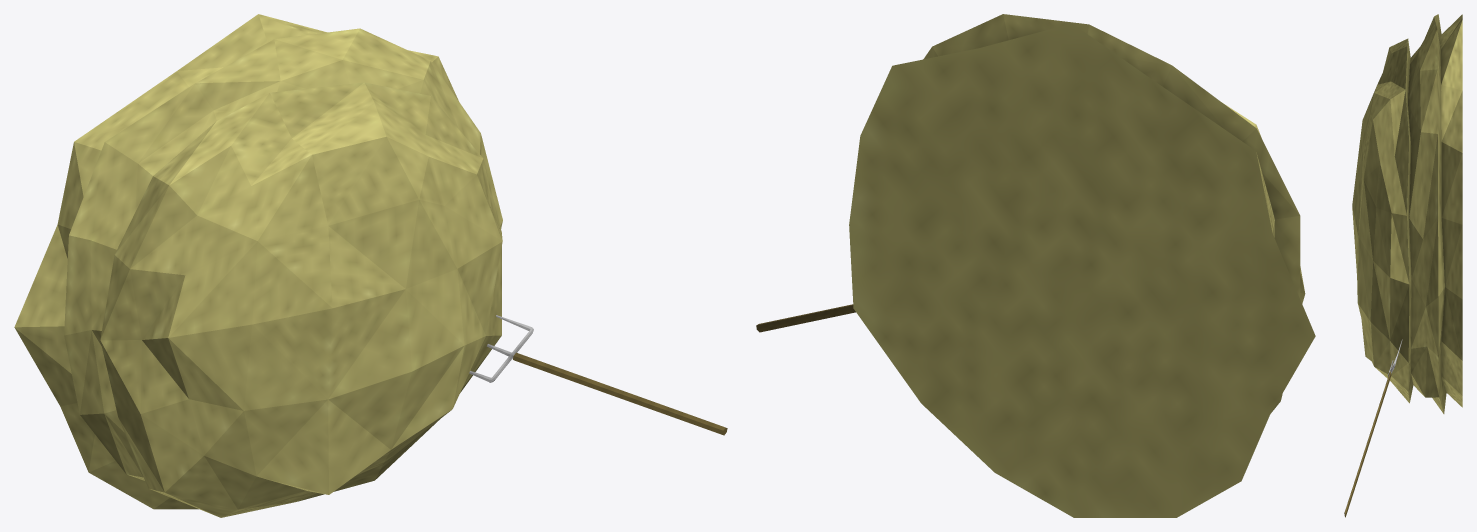
The model's file is HayStack.obj.
3 views of the same model, side by side, from view 1: azimuth 30°, elevation 25°; view 2: azimuth 150°, elevation 25°; view 3: azimuth 270°, elevation 25° (orthographic). The views are drawn at different scales.
Parts seen in each view (by area): view 1: Haystack_mesh; view 2: Haystack_mesh; view 3: Haystack_mesh.
Boxes of the visible parts, x1,y1,x2,y2 form: Haystack_mesh: (14, 14, 727, 517); Haystack_mesh: (756, 14, 1315, 517); Haystack_mesh: (1344, 14, 1462, 517).
Size of the model in its own units: 1.59 by 1.18 by 0.3333.
1 material, 1 textured.
